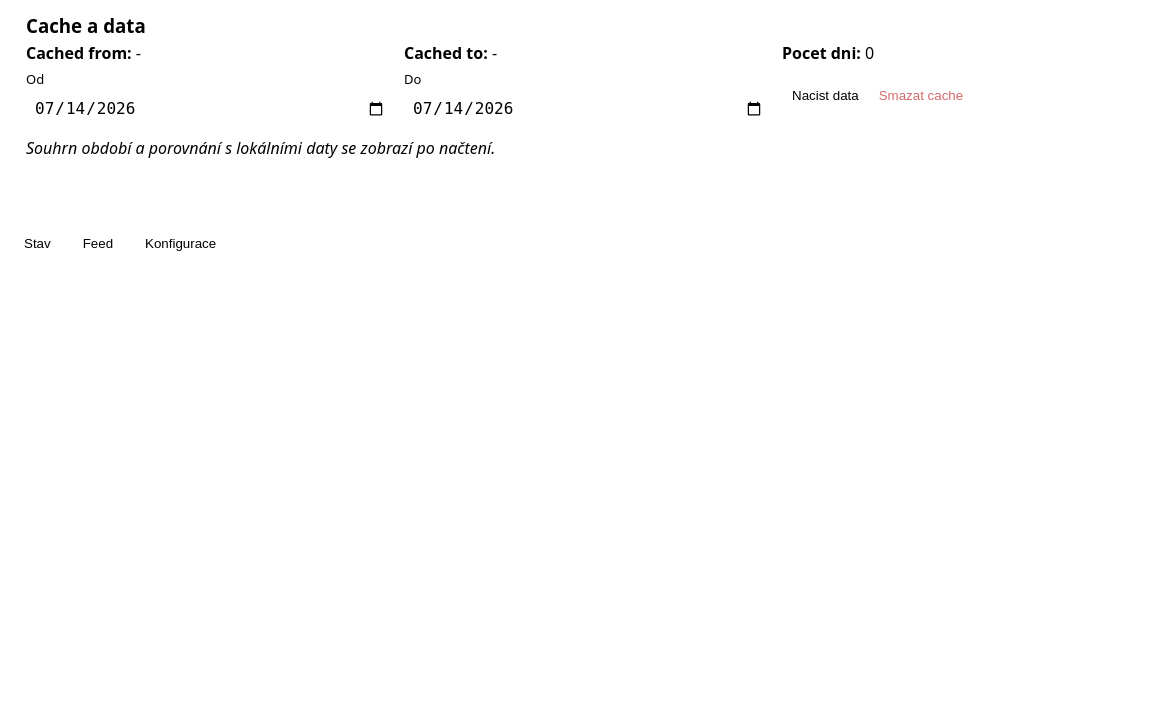
Scenario: PndPage › renders explicit portal changed diagnostics
// Reveal diagnostics/status
Click the button "Stav". click: (37, 244)
box: left=12, top=230, right=63, bottom=257
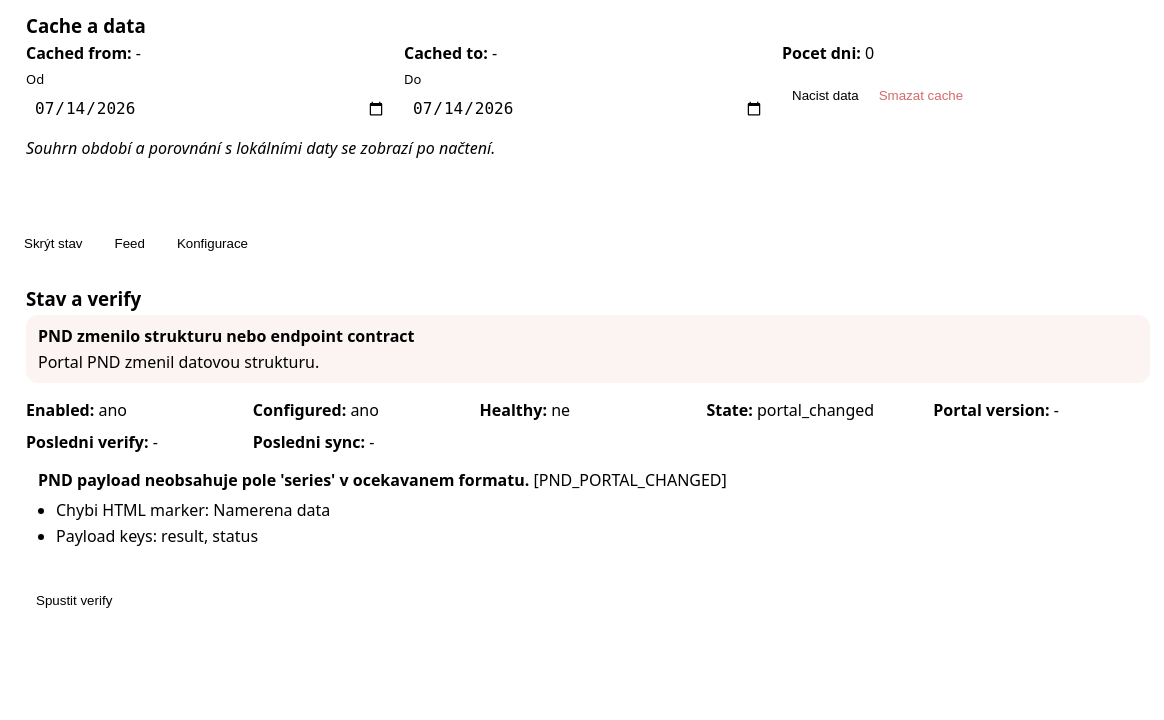
Check: the text "PND zmenilo strukturu nebo endpoint contract" is shown, box left=38, top=325, right=414, bottom=347
Check: the list item "Chybi HTML marker: Namerena data" is shown, box left=56, top=499, right=330, bottom=521
Check: the list item "Payload keys: result, status" is shown, box left=56, top=525, right=258, bottom=547
